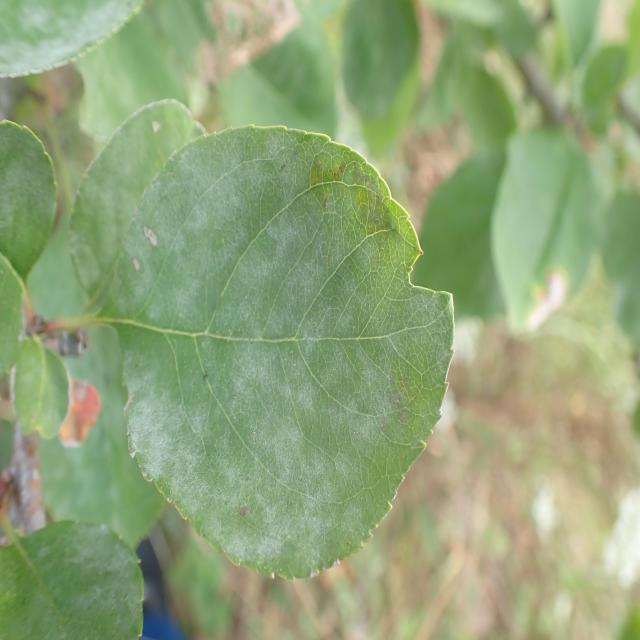Powdery_mildew: (96, 100, 460, 590), (69, 67, 217, 326), (0, 514, 171, 640), (0, 0, 193, 98), (0, 107, 58, 294)
